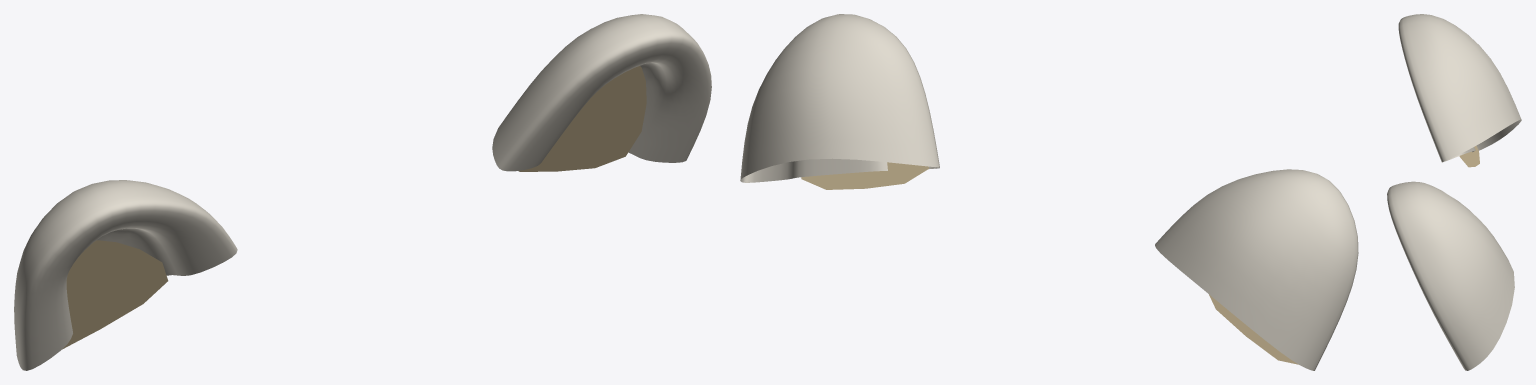
The model's file is nekolion_0819_colorOK.glb.
The picture shows the model from 3 angles, left to right: view 1: azimuth 30°, elevation 25°; view 2: azimuth 150°, elevation 25°; view 3: azimuth 270°, elevation 25°; orthographic projection. The views are drawn at different scales.
Parts seen in each view (by area): view 1: ear_new01.007, ear_new01.003, ear_new01.006, ear_new01.008; view 2: ear_new01.003, ear_new01.007, ear_new01.008, ear_new01.006; view 3: ear_new01.007, ear_new01.003, ear_new01.006.
Boxes of the visible parts, left/top/right/bottom form: ear_new01.007: left=492, top=14, right=711, bottom=171; ear_new01.003: left=14, top=180, right=237, bottom=370; ear_new01.006: left=62, top=240, right=168, bottom=349; ear_new01.008: left=518, top=66, right=646, bottom=171; ear_new01.003: left=1155, top=169, right=1358, bottom=370; ear_new01.007: left=740, top=14, right=939, bottom=182; ear_new01.008: left=801, top=162, right=928, bottom=189; ear_new01.006: left=1209, top=294, right=1298, bottom=364; ear_new01.007: left=1387, top=181, right=1514, bottom=370; ear_new01.003: left=1398, top=14, right=1521, bottom=162; ear_new01.006: left=1459, top=145, right=1479, bottom=167.
Bounding box in the file's own units: 0.088 × 0.0289 × 0.0185.
